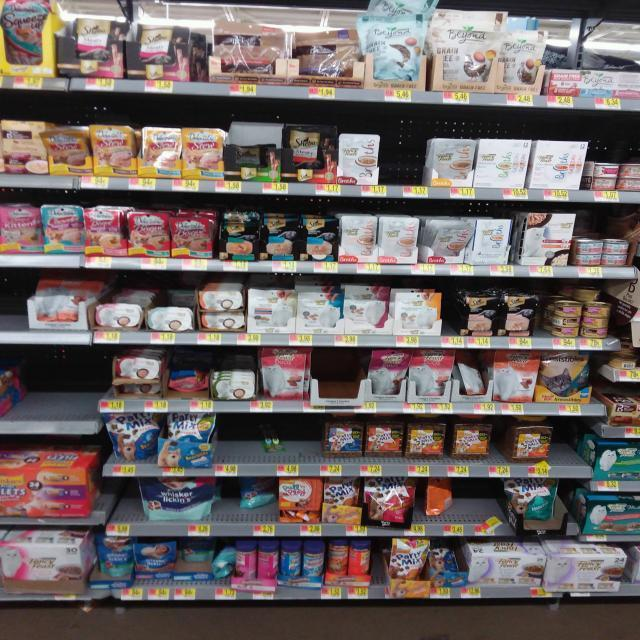Imprecise: (94, 286, 154, 328), (154, 285, 200, 333), (455, 345, 489, 400), (579, 290, 611, 340), (236, 475, 277, 514), (180, 540, 218, 582), (422, 476, 454, 520), (166, 378, 206, 400), (258, 431, 289, 457)
